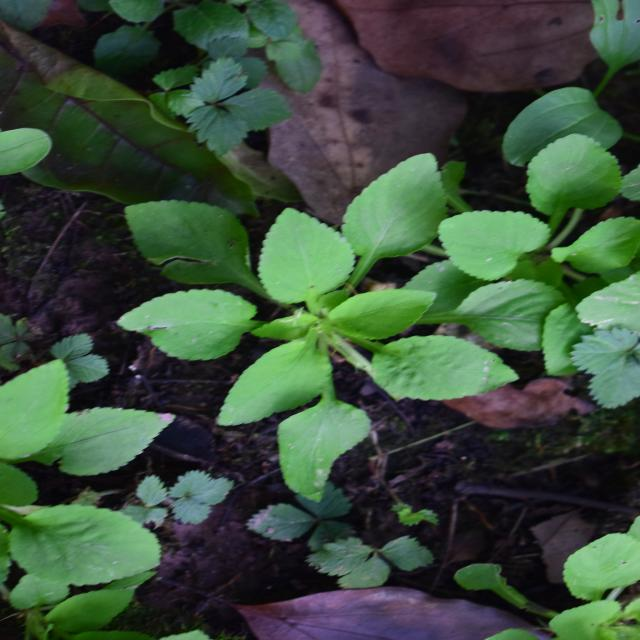Viola: (172, 90, 432, 475)
